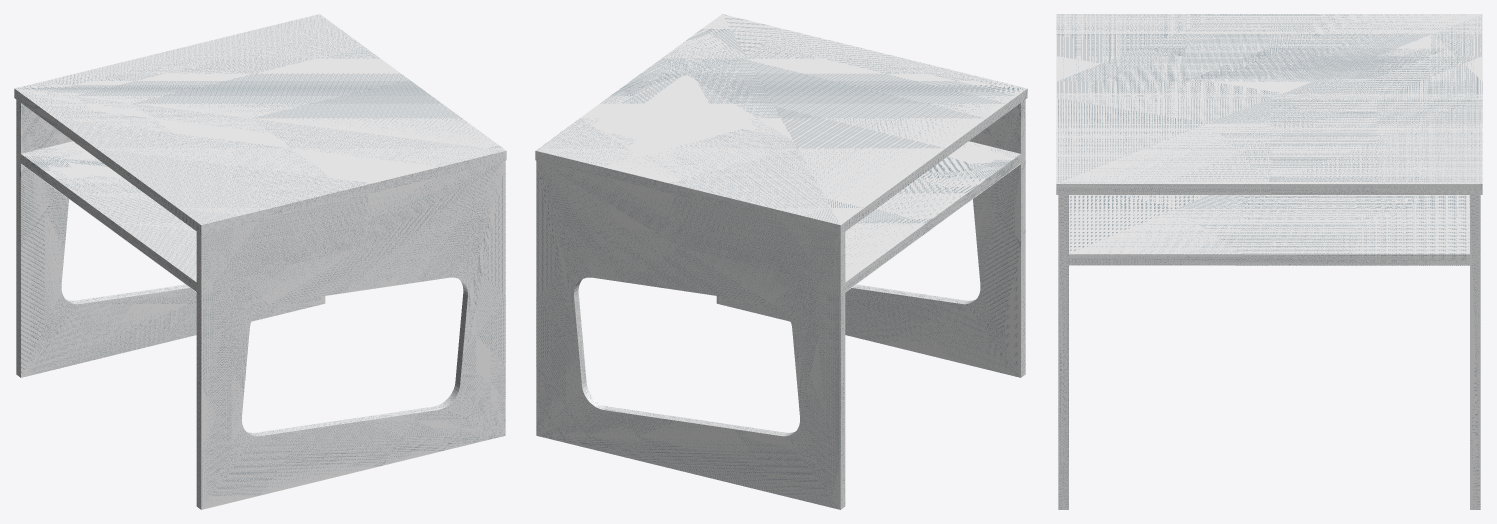
The model's file is table01.fbx.
The picture shows the model from 3 angles, left to right: view 1: azimuth 30°, elevation 25°; view 2: azimuth 150°, elevation 25°; view 3: azimuth 270°, elevation 25°; orthographic projection. The views are drawn at different scales.
Parts seen in each view (by area): view 1: Group2, Group4, Group7, Group6; view 2: Group2, Group7, Group4, Group6; view 3: Group2, Group6, Group4, Group7.
Part boxes in pixels (bbox=[...]): Group2: bbox=[14, 14, 506, 234]; Group4: bbox=[196, 160, 505, 509]; Group7: bbox=[16, 100, 325, 377]; Group6: bbox=[21, 141, 196, 291]; Group2: bbox=[535, 14, 1027, 234]; Group7: bbox=[536, 160, 845, 509]; Group4: bbox=[716, 100, 1025, 377]; Group6: bbox=[845, 141, 1020, 291]; Group2: bbox=[1056, 14, 1482, 194]; Group6: bbox=[1069, 195, 1469, 265]; Group4: bbox=[1058, 195, 1068, 509]; Group7: bbox=[1470, 195, 1480, 509].
Bounding box in the file's own units: 602 × 538 × 638.
